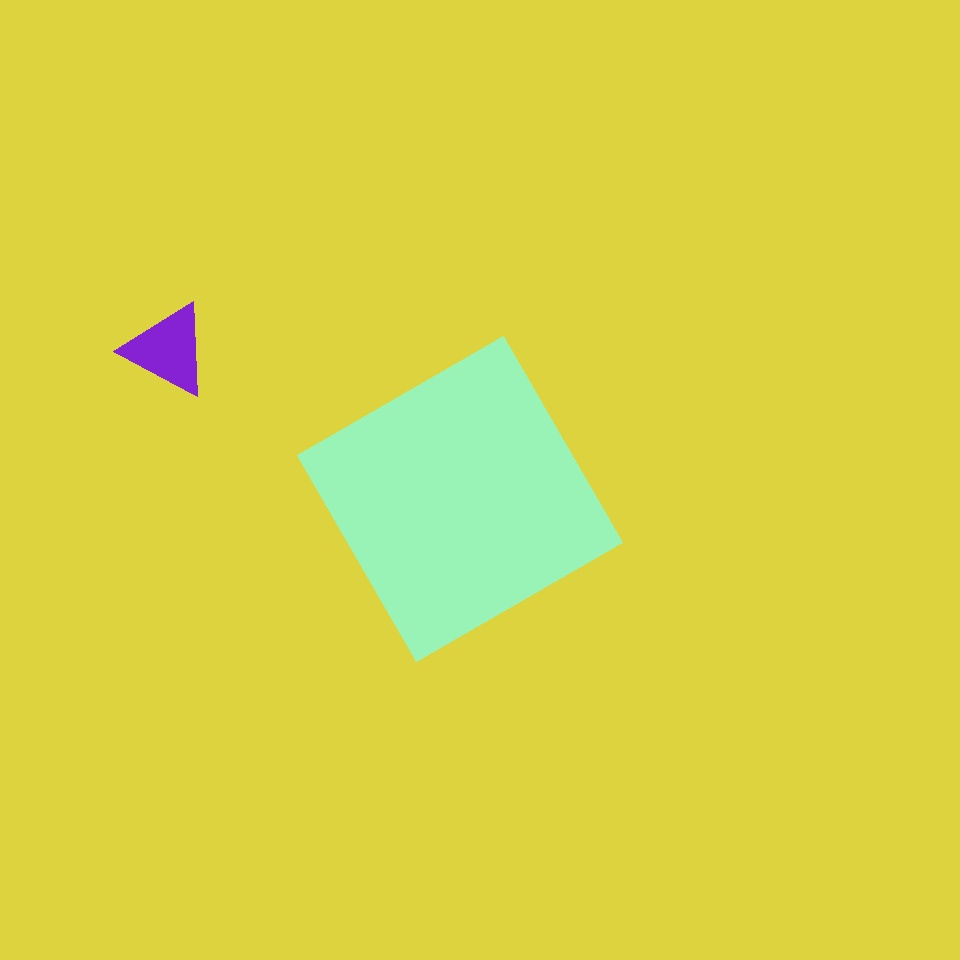circle: (539, 632, 798, 862), (126, 302, 210, 398), (492, 206, 579, 293)
square: (298, 336, 622, 662), (410, 506, 719, 815), (498, 658, 777, 936)
triangle: (535, 143, 913, 521), (135, 608, 291, 763)
